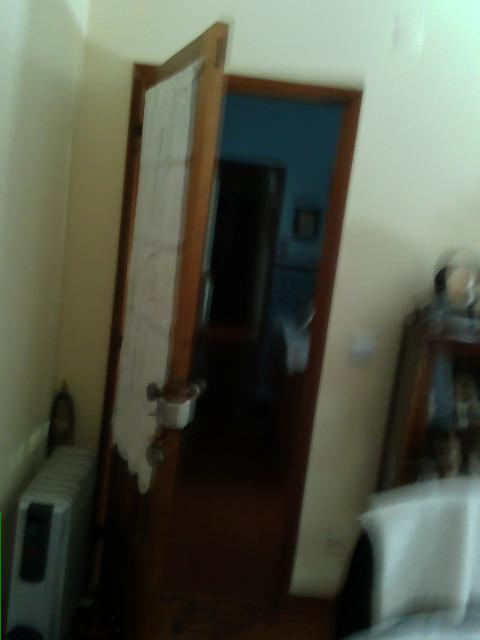semi_door: (88, 17, 364, 635)
